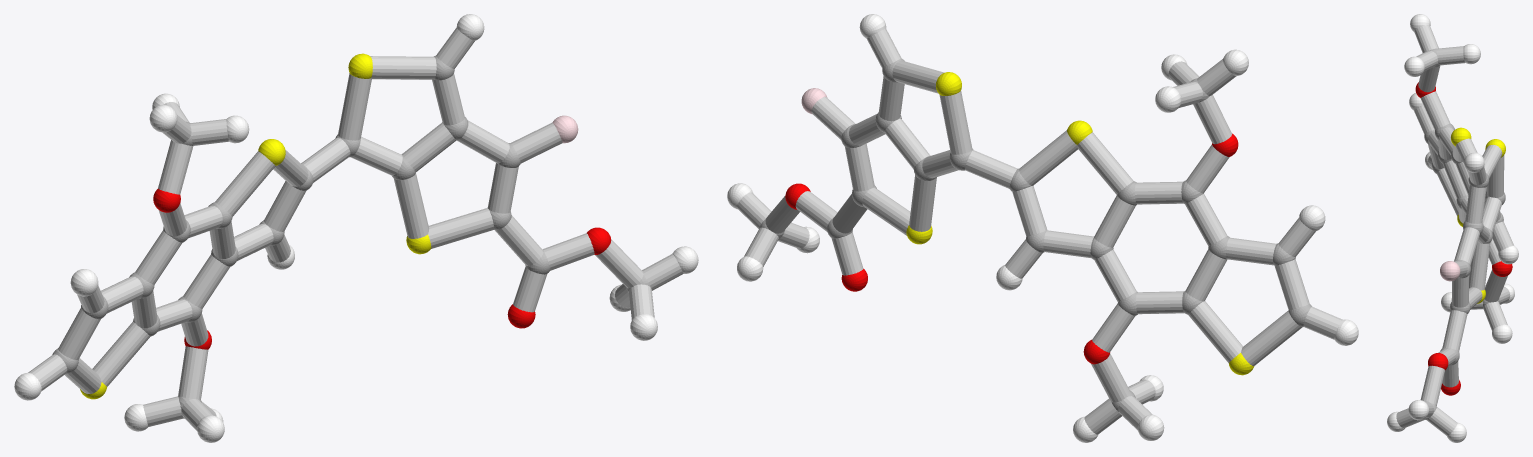
File: Dimethoxy_Benzodithiophene_Phi_25_Theta_150_Methylcarbonyl_3_Fluoro_Thienothiophene.glb
3 renders of one model, left to right at view 1: azimuth 30°, elevation 25°; view 2: azimuth 150°, elevation 25°; view 3: azimuth 270°, elevation 25°, orthographic. The views are drawn at different scales.
Parts seen in each view (by area): view 1: grp15205, grp8689, grp1, grp13395, grp7241; view 2: grp15205, grp8689, grp1, grp7241, grp13395; view 3: grp15205, grp8689, grp1, grp13395, grp7241, grp14843.
Part boxes in pixels (x1,y1,x2,y2): grp15205: (28,27,683,430); grp8689: (14,14,698,442); grp1: (52,55,649,418); grp13395: (153,189,611,349); grp7241: (80,53,431,399); grp15205: (737,29,1342,434); grp8689: (727,14,1358,442); grp1: (759,58,1311,411); grp7241: (906,72,1254,375); grp13395: (785,133,1238,364); grp15205: (1396,25,1513,435); grp8689: (1387,14,1518,442); grp1: (1424,48,1505,419); grp13395: (1415,82,1512,395); grp7241: (1451,127,1505,303); grp14843: (1440,261,1460,281).
Bounding box in the file's own units: 16.67 × 9.37 × 3.84.
